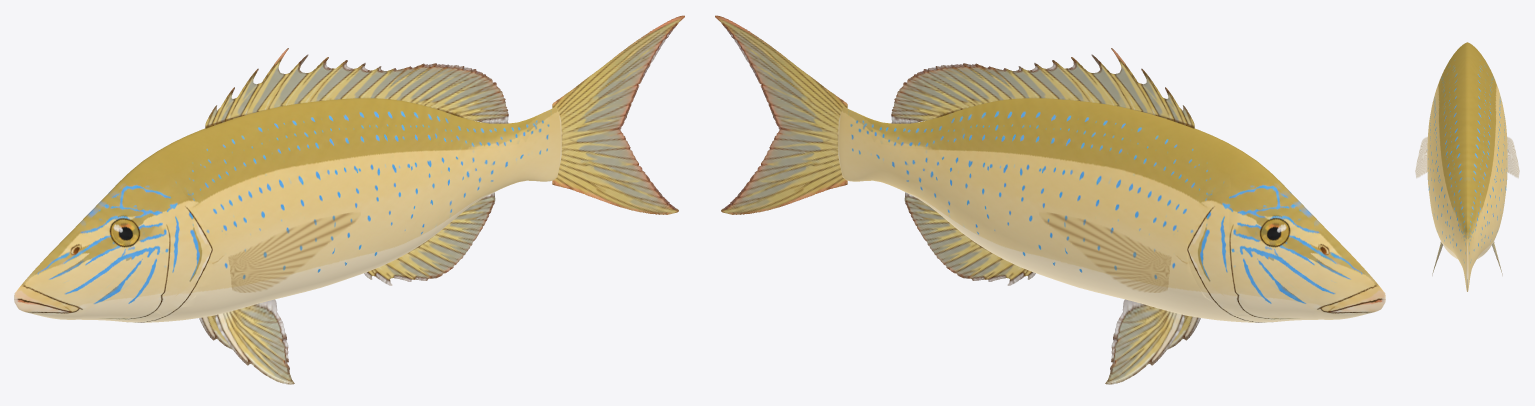
File: hamafuefuki-light-v5.glb
3 views of the same model, side by side, from view 1: azimuth 30°, elevation 25°; view 2: azimuth 150°, elevation 25°; view 3: azimuth 270°, elevation 25° (orthographic). The views are drawn at different scales.
Parts seen in each view (by area): view 1: body, median_fins, pectoral_1, operculum_1, pelvic_1; view 2: body, median_fins, pectoral_-1, operculum_-1, pelvic_-1; view 3: body, pectoral_-1, pectoral_1.
Part boxes in pixels (<box>): body: <box>14,98,561,322</box>; median_fins: <box>205,15,684,285</box>; pectoral_1: <box>228,212,360,292</box>; operculum_1: <box>157,176,212,314</box>; pelvic_1: <box>215,299,294,384</box>; body: <box>838,98,1385,322</box>; median_fins: <box>715,15,1194,285</box>; pectoral_-1: <box>1039,212,1171,292</box>; operculum_-1: <box>1187,176,1244,314</box>; pelvic_-1: <box>1105,299,1184,384</box>; body: <box>1427,42,1507,291</box>; pectoral_-1: <box>1507,137,1519,177</box>; pectoral_1: <box>1415,137,1427,177</box>.
Bounding box in the file's own units: 0.4507 × 0.2031 × 0.0788.
2 materials, 2 textured.
